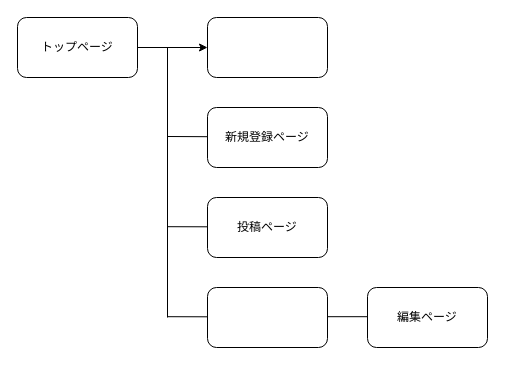
This 505x365 diagram has some shape labels left out. Here are the shapes that lost their labels. From the top down, the box of each, then its label:
(206, 16, 328, 78): ログインページ
(206, 286, 328, 348): 詳細ページ
